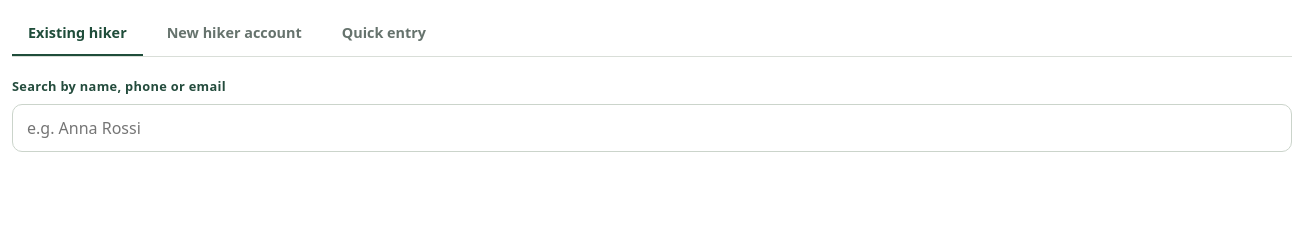
Scenario: surfaces a search error from the API
This screenshot has width=1304, height=235.
Type "Anna" into the field labelled "Search by name, phone or email" at (652, 128), box left=12, top=104, right=1292, bottom=152
Wait 300 ms
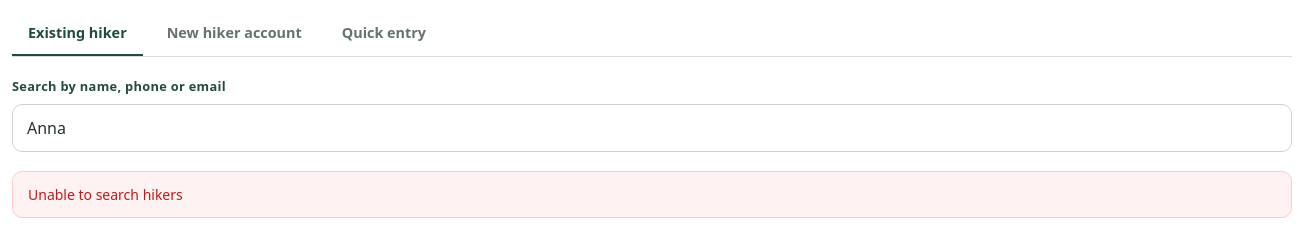
Result: the message reads "Unable to search hikers" at left=28, top=185, right=183, bottom=204
